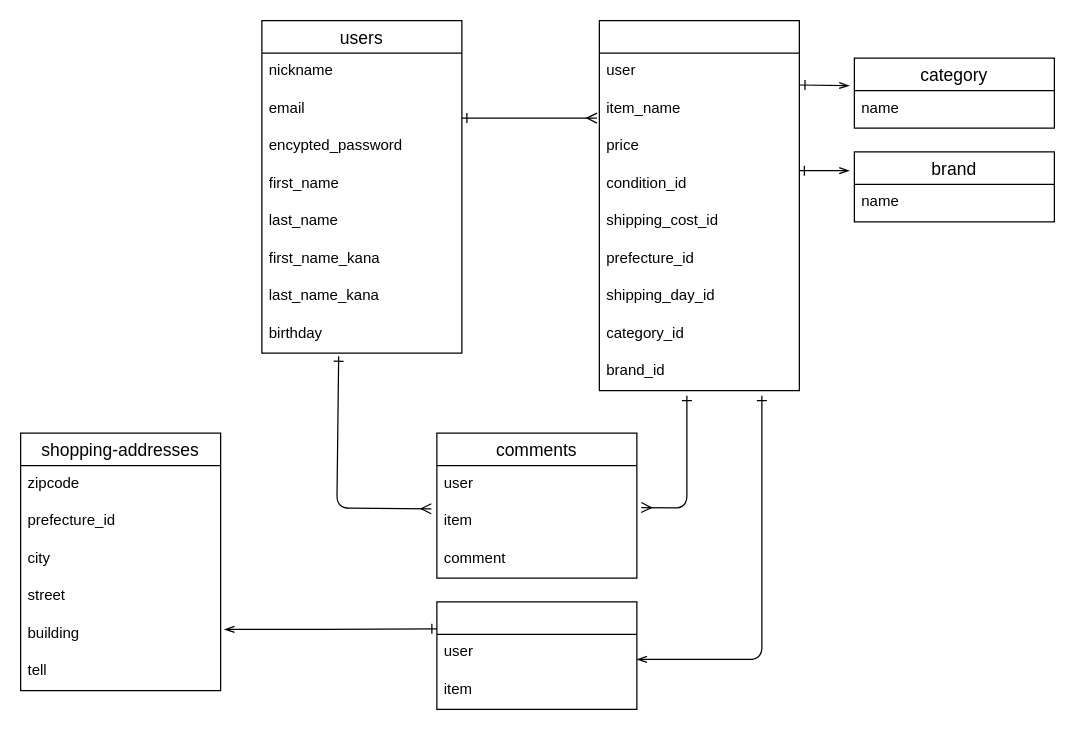
Some shapes in this 1075 by 730 pixel diagram are drawn without their labels. The shapes that lost their labels are listed below. From the top down, each one's box as (x1, y1, x2, y2) in pixels, then its label:
(598, 19, 799, 391): items
(436, 601, 637, 709): orders
